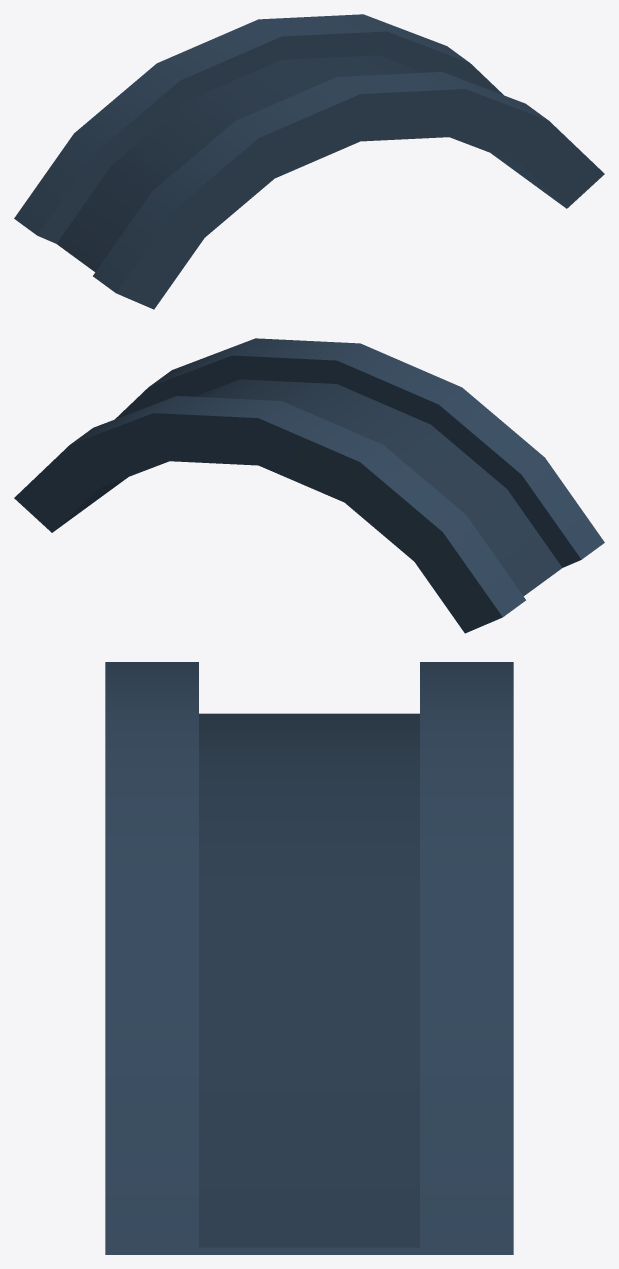
Rendered from bridge01_s01.FBX.
3 views of the same model, one above another, from view 1: azimuth 30°, elevation 25°; view 2: azimuth 150°, elevation 25°; view 3: azimuth 270°, elevation 25° (orthographic). The views are drawn at different scales.
Parts seen in each view (by area): view 1: bridge01_s01; view 2: bridge01_s01; view 3: bridge01_s01.
Boxes of the visible parts, x1=… form: bridge01_s01: x1=14, y1=14, x2=604, y2=309; bridge01_s01: x1=14, y1=338, x2=604, y2=633; bridge01_s01: x1=105, y1=662, x2=513, y2=1254.
Size of the model in its own units: 378 by 137 by 122.
1 material, 1 textured.
